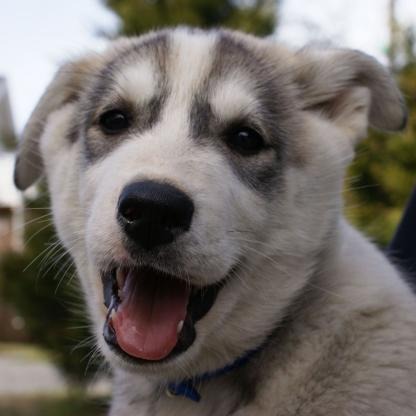dog: (10, 24, 416, 416)
